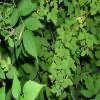Raspberry leaf: (22, 29, 39, 65), (23, 79, 47, 100), (11, 24, 25, 49), (5, 6, 18, 29), (20, 0, 38, 16), (24, 17, 44, 31), (11, 72, 21, 100)
